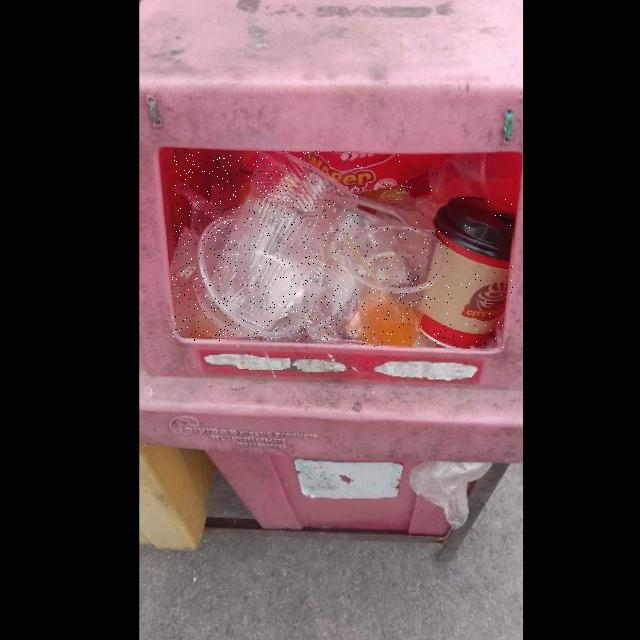paper: (417, 198, 513, 350)
plastic: (172, 152, 358, 341), (344, 227, 449, 347)
wrapper: (288, 153, 448, 194)
